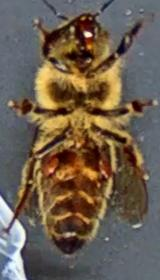varroa_mite: (29, 140, 68, 185), (90, 148, 120, 182)
